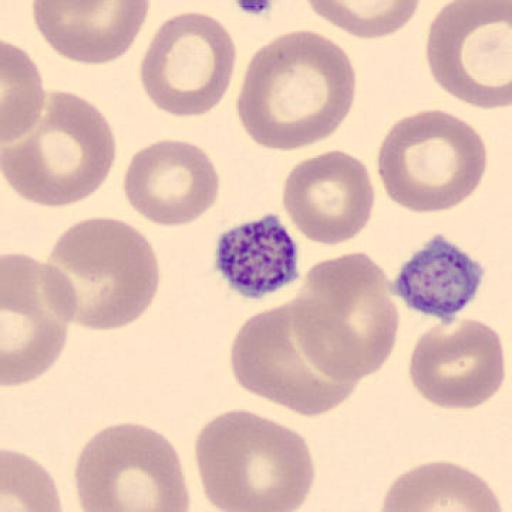Platelet: (389, 233, 487, 323), (211, 210, 302, 301)
RBC: (229, 293, 361, 419), (236, 27, 358, 154), (290, 248, 401, 382), (2, 89, 117, 209), (46, 215, 162, 332), (192, 407, 316, 512), (376, 107, 489, 216), (73, 420, 192, 512), (139, 10, 238, 118), (2, 251, 72, 388), (425, 0, 512, 110), (281, 148, 376, 248), (122, 136, 220, 229), (408, 318, 506, 410), (31, 0, 152, 66), (378, 458, 504, 512), (14, 255, 78, 332), (303, 0, 422, 41), (2, 39, 44, 144), (1, 447, 64, 512), (36, 257, 79, 327)
